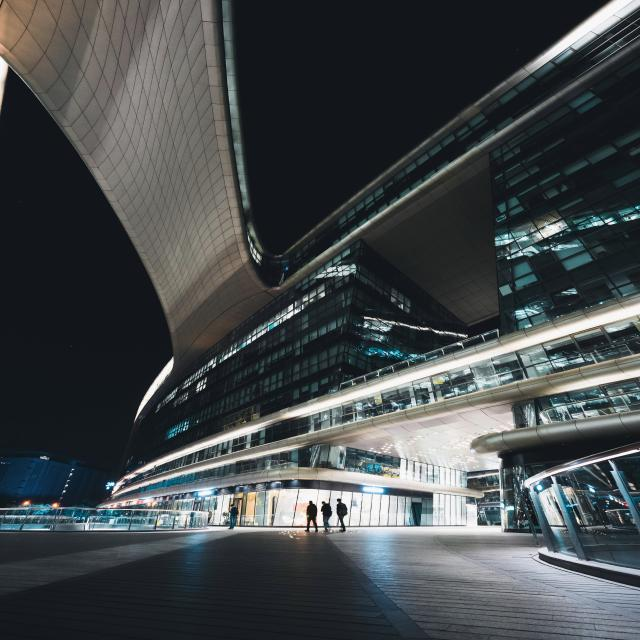adult: (304, 499, 319, 534), (335, 497, 348, 533), (320, 499, 333, 534), (227, 504, 239, 530)
